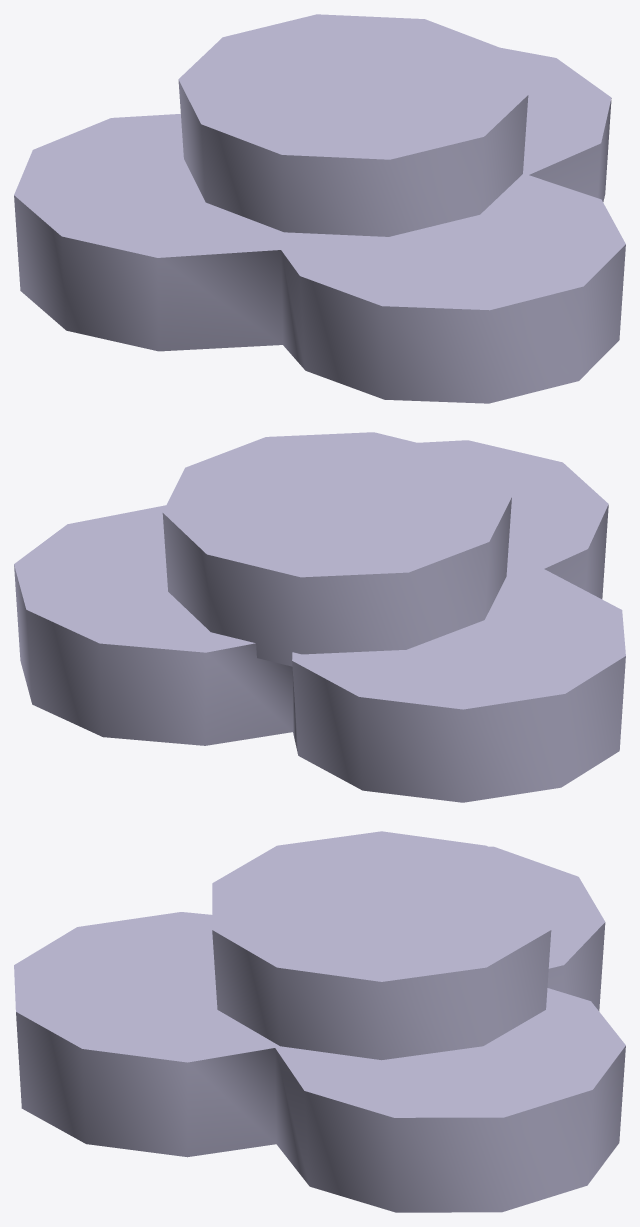
Rendered from COIN.fbx.
3 renders of one model, top to bottom at view 1: azimuth 30°, elevation 25°; view 2: azimuth 150°, elevation 25°; view 3: azimuth 270°, elevation 25°, orthographic.
Parts seen in each view (by area): view 1: COIN; view 2: COIN; view 3: COIN.
Part boxes in pixels (x1=…): COIN: x1=14, y1=14, x2=625, y2=403; COIN: x1=14, y1=432, x2=625, y2=802; COIN: x1=14, y1=831, x2=625, y2=1212.
Size of the model in its own units: 2982 by 903 by 2811.
